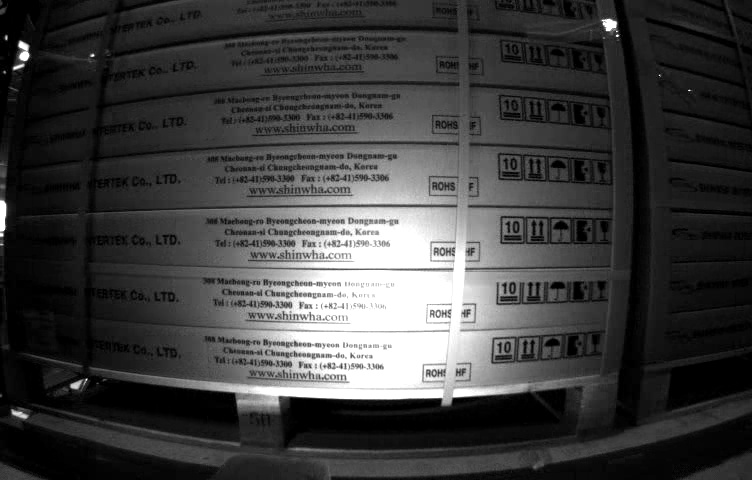True Barcode: (22, 308, 57, 354)
